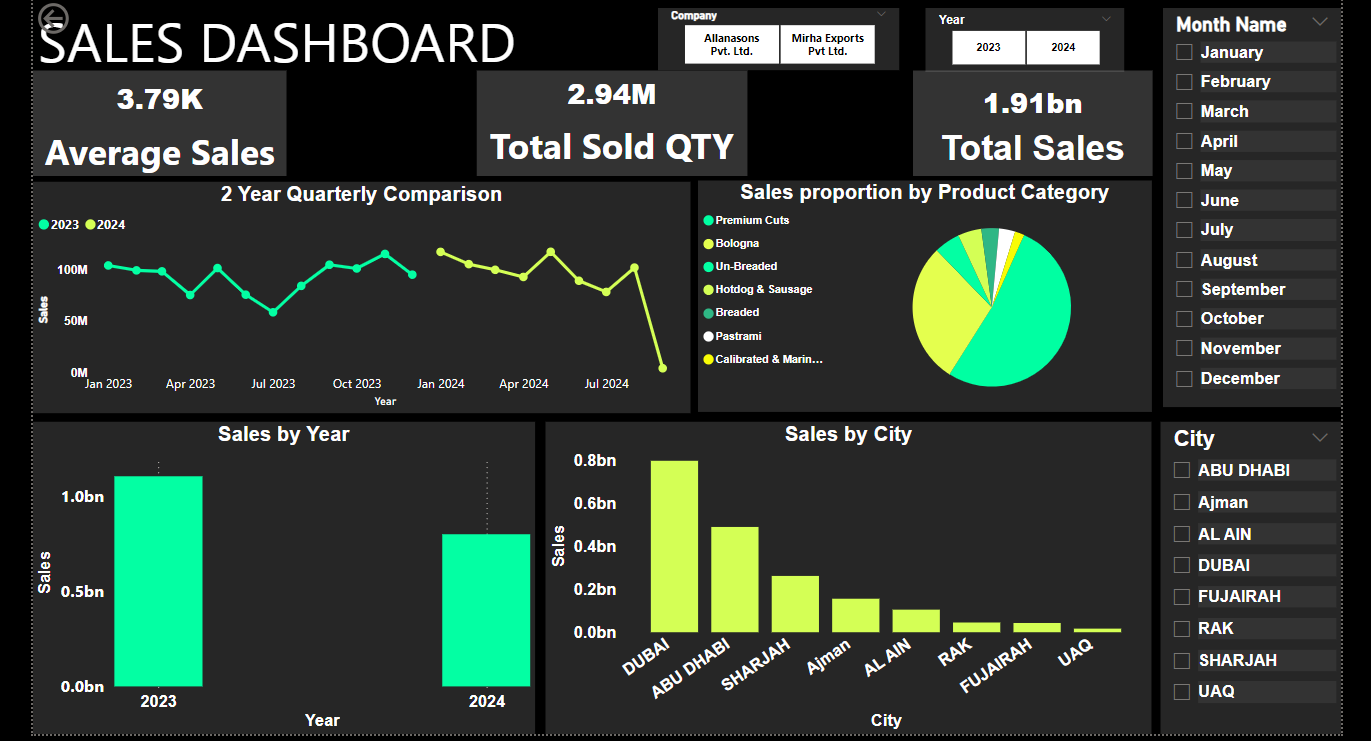

This screenshot's page, from the dashboard's own definition file:
{"tool":"powerbi","page":{"name":"Sales Dashboard","canvas":[1280,720],"ordinal":0},"visuals":[{"type":"textbox","box":[0,0,1280.3,81.9],"z":0},{"type":"slicer","fields":{"Values":["sales.Month Name"]},"box":[1105.1,9.8,174.9,390.1],"z":1000},{"type":"slicer","fields":{"Values":["sales.City"]},"box":[1102.7,414.3,177.3,305.7],"z":2000},{"type":"columnChart","title":"Sales by City","fields":{"Category":["sales.City"],"Y":["Sum(sales.Sales(₹))"]},"box":[501.4,414.5,593.1,305.7],"z":3000},{"type":"clusteredColumnChart","title":"Sales by Year","fields":{"Category":["sales.Year"],"Y":["Sum(sales.Sales(₹))"]},"box":[0,414.5,491.6,305.7],"z":4000},{"type":"pieChart","title":"Sales proportion by Product Category","fields":{"Category":["sales.SubCategory"],"Y":["Sum(sales.Sales(₹))"]},"box":[650.5,178.5,443.9,226.2],"z":5000},{"type":"card","fields":{"Values":["sales.Total Sales"]},"box":[860.4,71.4,234.6,102.9],"z":6000},{"type":"card","fields":{"Values":["sales.Total Sold QTY"]},"box":[433.6,71.4,264.8,102.9],"z":7000},{"type":"card","fields":{"Values":["sales.Average Sales"]},"box":[0,71.4,248.4,102.9],"z":8000},{"type":"actionButton","box":[0,0,100,40],"z":9000},{"type":"slicer","fields":{"Values":["sales.Year"]},"box":[873.1,9.8,194.4,62.4],"z":10000},{"type":"slicer","fields":{"Values":["sales.Company"]},"box":[611.4,9.8,236,61.1],"z":11000},{"type":"lineChart","title":"2 Year Quarterly Comparison","fields":{"Category":["sales.Inv Date.Variation.Date Hierarchy.Year","sales.Inv Date.Variation.Date Hierarchy.Month"],"Y":["Sum(sales.Sales(₹))"],"Series":["sales.Year"]},"box":[0,179.8,643.2,226.2],"z":12000}]}

Visuals, with their boxes on the page's 1280x720 design canvas (x1, y1, x2, y2). These are canvas units, not pixel positions in the 1371x741 screenshot, which may show the page scaled, cropped or inside an application window:
textbox: {"x1": 0, "y1": 0, "x2": 1280, "y2": 82}
slicer - sales.Month Name: {"x1": 1105, "y1": 10, "x2": 1280, "y2": 400}
slicer - sales.City: {"x1": 1103, "y1": 414, "x2": 1280, "y2": 720}
"Sales by City" columnChart: {"x1": 501, "y1": 414, "x2": 1094, "y2": 720}
"Sales by Year" clusteredColumnChart: {"x1": 0, "y1": 414, "x2": 492, "y2": 720}
"Sales proportion by Product Category" pieChart: {"x1": 650, "y1": 178, "x2": 1094, "y2": 405}
card - sales.Total Sales: {"x1": 860, "y1": 71, "x2": 1095, "y2": 174}
card - sales.Total Sold QTY: {"x1": 434, "y1": 71, "x2": 698, "y2": 174}
card - sales.Average Sales: {"x1": 0, "y1": 71, "x2": 248, "y2": 174}
actionButton: {"x1": 0, "y1": 0, "x2": 100, "y2": 40}
slicer - sales.Year: {"x1": 873, "y1": 10, "x2": 1068, "y2": 72}
slicer - sales.Company: {"x1": 611, "y1": 10, "x2": 847, "y2": 71}
"2 Year Quarterly Comparison" lineChart: {"x1": 0, "y1": 180, "x2": 643, "y2": 406}
